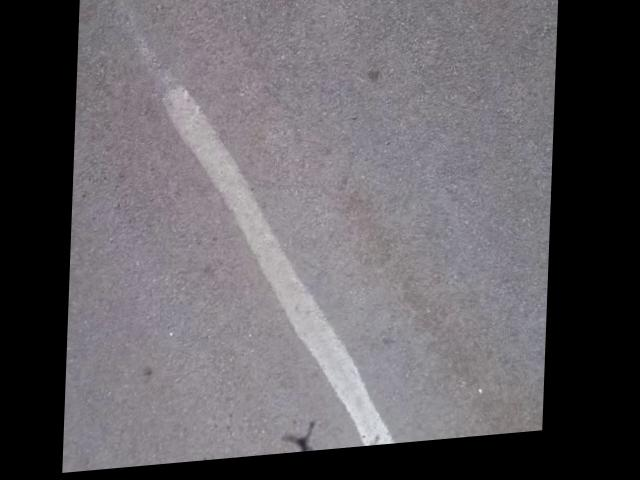fire-poster: (229, 0, 387, 8)
